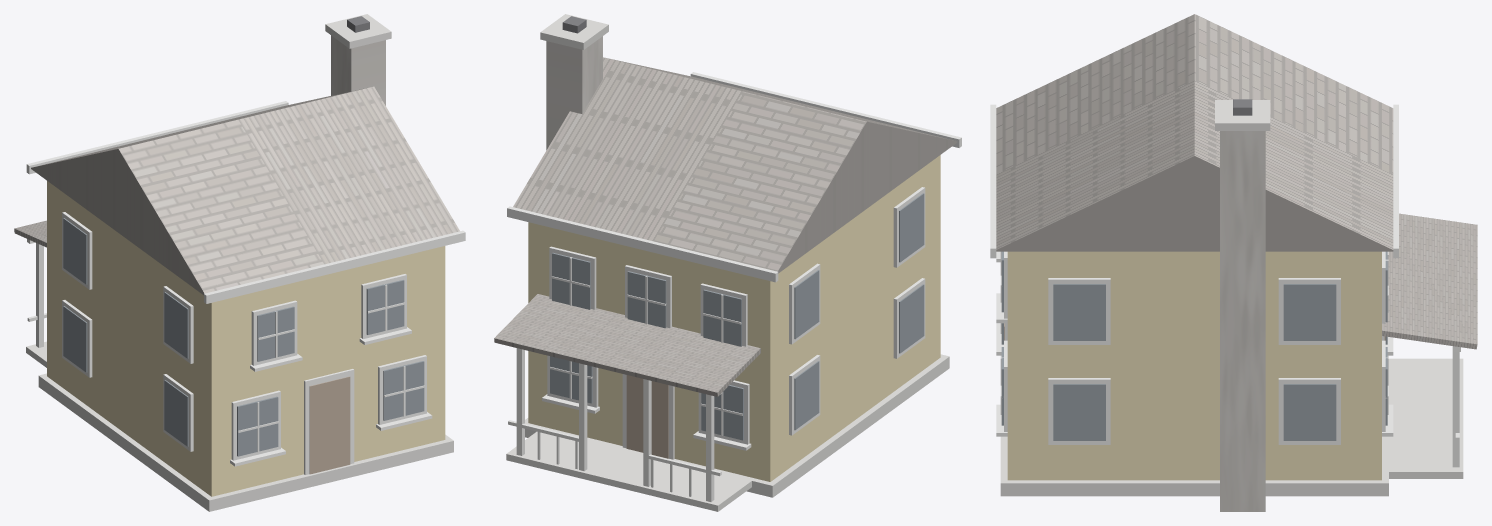
The model's file is house-east-yellow.glb.
The picture shows the model from 3 angles, left to right: view 1: azimuth 30°, elevation 25°; view 2: azimuth 150°, elevation 25°; view 3: azimuth 270°, elevation 25°; orthographic projection. The views are drawn at different scales.
Parts seen in each view (by area): view 1: Roof, WallSideW, WallR_L, WallR_R, Foundation, WallR_head, DoorR, FasciaR, Chimney, WinGlass.005, WinGlass.006, WinGlass.008 (+19 smaller); view 2: Roof, WallSideW, PorchRoof, WallF_L, WallF_R, PorchSlab, Foundation, Chimney, FasciaF, DoorF, WinGlass.003, WinGlass.002 (+24 smaller); view 3: Roof, WallSideE, Chimney, PorchRoof, PorchSlab, Foundation, WinGlassS.002, WinGlassS.003, WinGlassS, WinGlassS.001, WallR_R, WallF_R (+8 smaller).
Part boxes in pixels (bbox=[...]): Roof: bbox=[31, 86, 459, 295]; WallSideW: bbox=[51, 184, 207, 493]; WallR_L: bbox=[207, 279, 308, 496]; WallR_R: bbox=[348, 246, 445, 461]; Foundation: bbox=[38, 373, 453, 511]; WallR_head: bbox=[308, 269, 348, 379]; DoorR: bbox=[309, 376, 350, 474]; FasciaR: bbox=[204, 230, 465, 303]; Chimney: bbox=[331, 35, 385, 105]; WinGlass.005: bbox=[237, 396, 278, 456]; WinGlass.006: bbox=[383, 361, 424, 420]; WinGlass.008: bbox=[366, 280, 404, 334]; Roof: bbox=[513, 57, 957, 273]; WallSideW: bbox=[774, 158, 936, 478]; PorchRoof: bbox=[494, 294, 760, 396]; WallF_L: bbox=[670, 256, 774, 481]; WallF_R: bbox=[528, 222, 628, 445]; PorchSlab: bbox=[506, 431, 751, 511]; Foundation: bbox=[525, 354, 949, 497]; Chimney: bbox=[546, 36, 602, 150]; FasciaF: bbox=[507, 206, 778, 282]; DoorF: bbox=[626, 375, 668, 458]; WinGlass.003: bbox=[627, 271, 666, 328]; WinGlass.002: bbox=[703, 289, 741, 346]; Roof: bbox=[996, 14, 1393, 251]; WallSideE: bbox=[1017, 251, 1372, 480]; Chimney: bbox=[1220, 131, 1265, 511]; PorchRoof: bbox=[1382, 213, 1477, 349]; PorchSlab: bbox=[1382, 358, 1463, 478]; Foundation: bbox=[1000, 355, 1388, 496]; WinGlassS.002: bbox=[1283, 384, 1336, 440]; WinGlassS.003: bbox=[1283, 284, 1336, 340]; WinGlassS: bbox=[1053, 384, 1105, 440]; WinGlassS.001: bbox=[1053, 284, 1105, 340]; WallR_R: bbox=[1007, 251, 1017, 480]; WallF_R: bbox=[1372, 251, 1381, 480].
Size of the model in its own units: 7.77 by 9.18 by 10.16.
9 materials, 9 textured.
